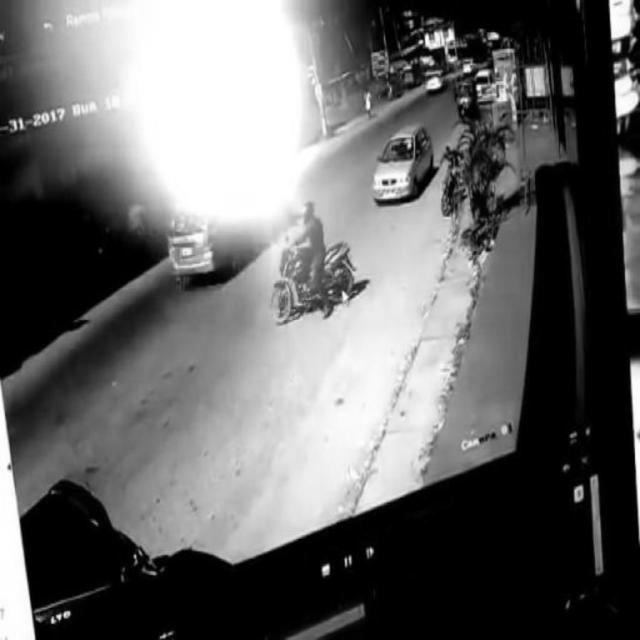vehicle: (269, 208, 357, 321), (375, 121, 433, 209)
